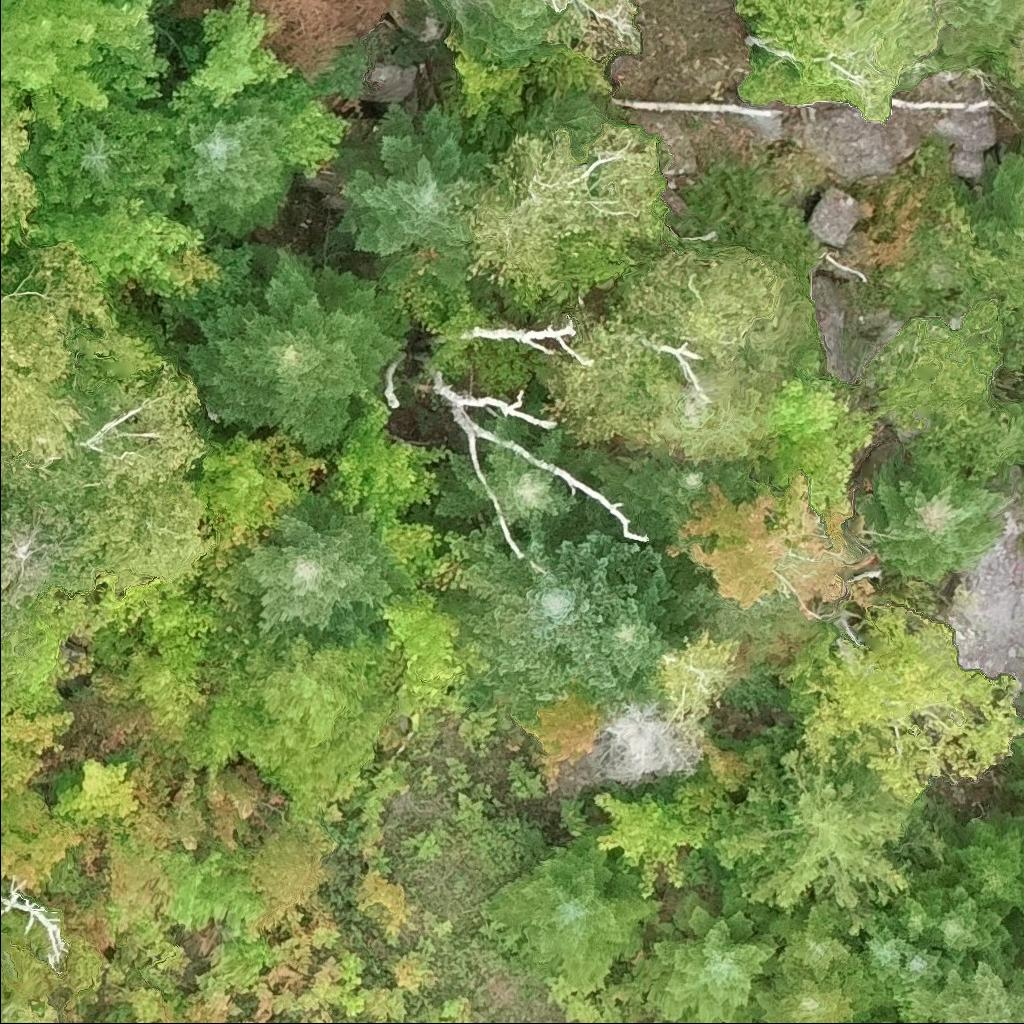crown: (782, 597, 1023, 806), (185, 247, 411, 457), (0, 237, 155, 505), (712, 747, 915, 951), (462, 124, 674, 310), (459, 529, 665, 713), (330, 99, 492, 288), (480, 820, 665, 984), (218, 487, 409, 645), (228, 616, 387, 796), (732, 0, 941, 120), (611, 243, 818, 358), (172, 78, 311, 239), (853, 450, 1018, 585), (680, 474, 834, 611), (28, 181, 206, 296), (0, 0, 158, 129), (538, 309, 684, 445), (659, 348, 789, 494), (765, 349, 876, 514), (646, 889, 779, 1023), (872, 298, 1008, 428), (316, 396, 448, 527), (586, 448, 760, 547), (74, 473, 217, 590), (166, 0, 291, 126), (479, 439, 612, 556), (600, 558, 708, 702), (102, 351, 211, 490), (251, 0, 409, 84), (199, 428, 327, 529), (594, 791, 707, 899), (150, 832, 267, 932), (0, 670, 78, 806), (472, 410, 606, 488), (432, 430, 512, 556), (108, 645, 210, 742), (953, 139, 1023, 280), (594, 697, 703, 786), (444, 37, 532, 146), (120, 749, 206, 860), (918, 882, 1020, 975), (248, 823, 335, 931), (945, 803, 1023, 919), (0, 784, 83, 893), (377, 587, 471, 680), (0, 107, 45, 293), (767, 899, 863, 986), (754, 965, 889, 1023), (449, 0, 560, 68), (50, 756, 142, 834), (531, 684, 597, 791), (923, 0, 1023, 70), (930, 960, 1023, 1023), (427, 276, 489, 370), (279, 97, 351, 176), (893, 941, 952, 1002), (0, 601, 39, 674), (860, 924, 906, 984), (889, 891, 940, 944), (1000, 11, 1023, 87), (1005, 731, 1023, 813), (181, 0, 235, 16), (0, 910, 24, 935), (1019, 905, 1023, 956), (1018, 686, 1023, 702), (1020, 93, 1023, 104), (1021, 140, 1023, 152)
